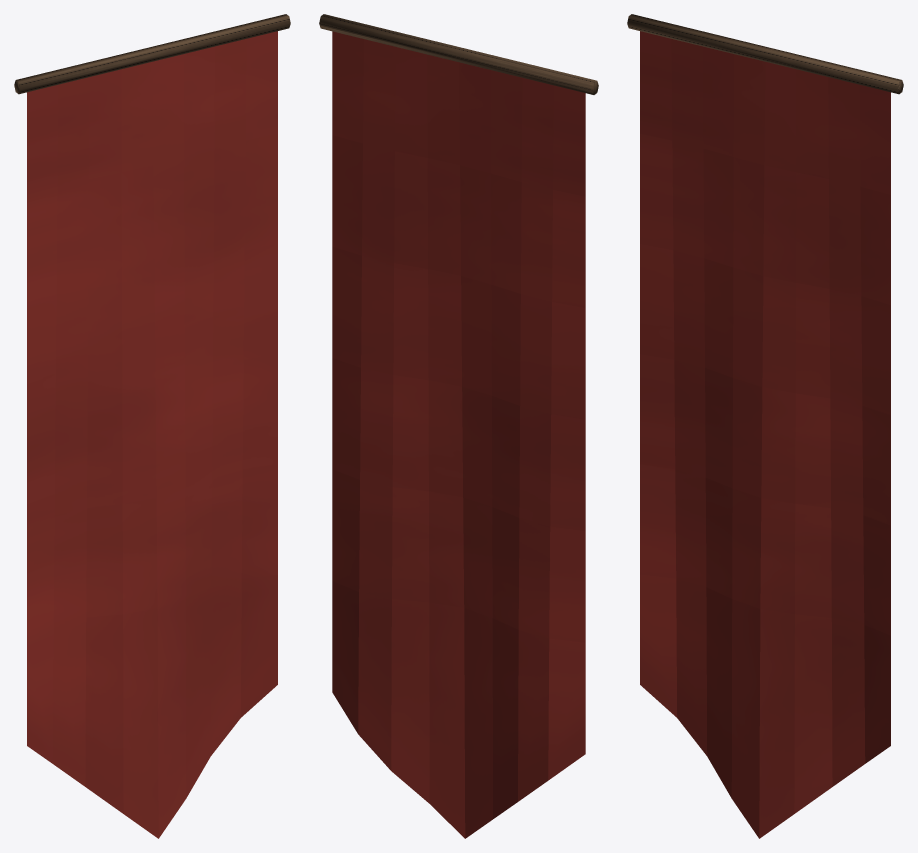
The model's file is Banner_1_Cloth.gltf.
3 views of the same model, side by side, from view 1: azimuth 30°, elevation 25°; view 2: azimuth 150°, elevation 25°; view 3: azimuth 330°, elevation 25° (orthographic).
Visible parts, largest first — view 1: Banner_1_Cloth; view 2: Banner_1_Cloth; view 3: Banner_1_Cloth.
Part boxes in pixels (box(x1,y1,x2,y2)): Banner_1_Cloth: box(14, 14, 290, 838); Banner_1_Cloth: box(319, 14, 598, 838); Banner_1_Cloth: box(627, 14, 903, 838).
Size of the model in its own units: 0.81 by 2.25 by 0.0616.
2 materials, 2 textured.
